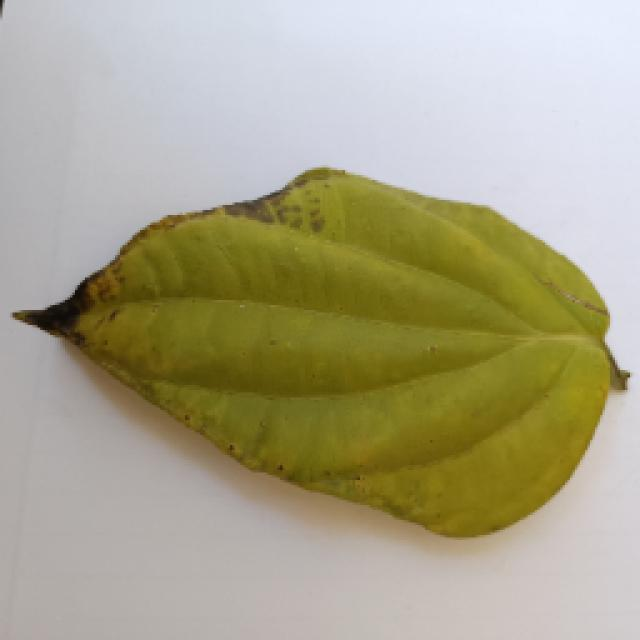slow-decline: (12, 167, 622, 535)
